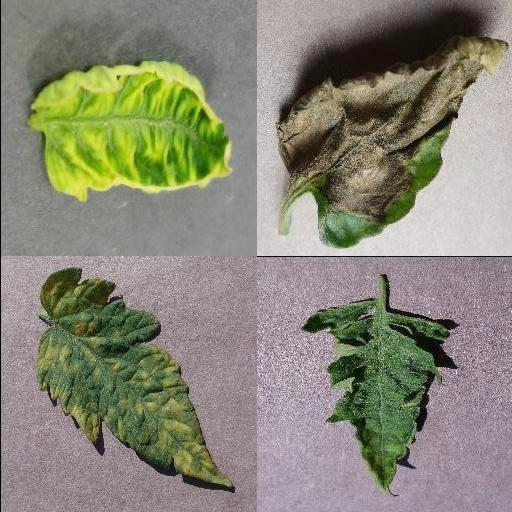Late Blight: (277, 34, 511, 248)
Leaf Mold: (35, 269, 233, 488)
Mosaic Virus: (298, 297, 448, 497)
Yellow Leaf Curl Virus: (27, 60, 233, 202)
